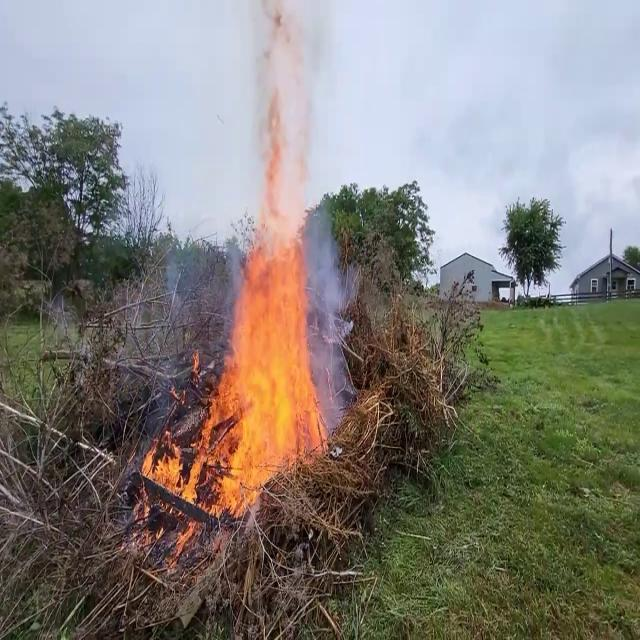Fire: (136, 184, 340, 542), (198, 203, 334, 511)
Smoke: (238, 1, 326, 213), (244, 11, 314, 192)
